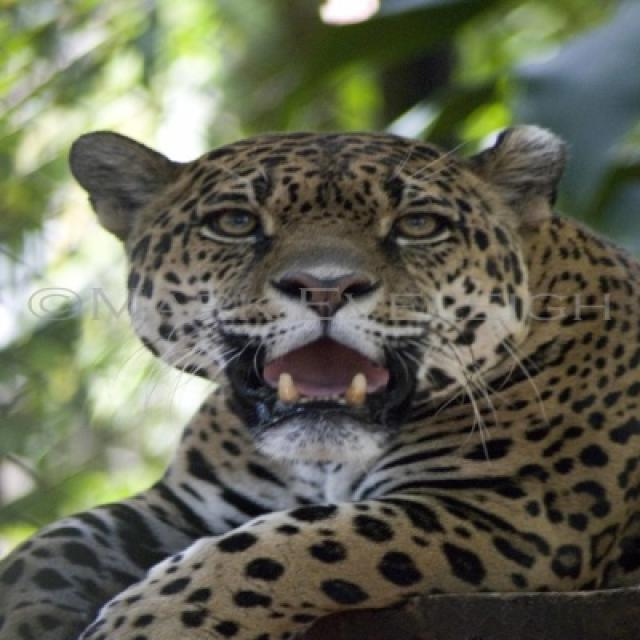Jaguar: (0, 126, 638, 638)
